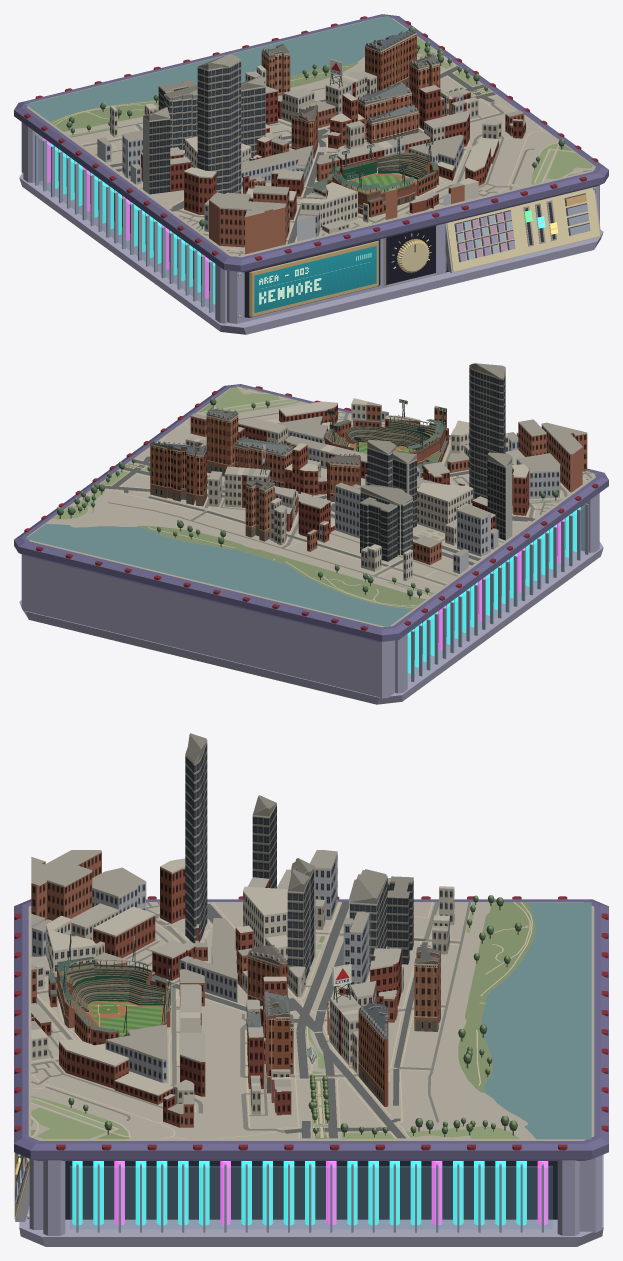
The model's file is segment-place-kencl.glb.
3 renders of one model, top to bottom at view 1: azimuth 30°, elevation 25°; view 2: azimuth 150°, elevation 25°; view 3: azimuth 270°, elevation 25°, orthographic. The views are drawn at different scales.
Parts seen in each view (by area): view 1: Masonry, foliage and streets, Masonry street elevations, Brushed chamfers, Powder-coated alloy, Satin curtain wall, Fluted instrument glass, LCD_Screen, Ice discharge tubes, Enamel and window panes, Rose discharge tubes, Rotary_Dial; view 2: Masonry, foliage and streets, Powder-coated alloy, Masonry street elevations, Brushed chamfers, Satin curtain wall, Fluted instrument glass, Ice discharge tubes, Rose discharge tubes; view 3: Masonry, foliage and streets, Powder-coated alloy, Masonry street elevations, Brushed chamfers, Fluted instrument glass, Ice discharge tubes, Satin curtain wall, Rose discharge tubes, Enamel and window panes.
Boxes of the visible parts, bbox=[...] form: Masonry, foliage and streets: bbox=[25, 16, 595, 257]; Masonry street elevations: bbox=[105, 34, 525, 247]; Brushed chamfers: bbox=[14, 14, 608, 323]; Powder-coated alloy: bbox=[19, 16, 603, 334]; Satin curtain wall: bbox=[149, 60, 265, 194]; Fluted instrument glass: bbox=[39, 136, 214, 311]; LCD_Screen: bbox=[254, 246, 376, 312]; Ice discharge tubes: bbox=[51, 143, 215, 304]; Enamel and window panes: bbox=[330, 60, 590, 261]; Rose discharge tubes: bbox=[43, 138, 208, 298]; Rotary_Dial: bbox=[397, 238, 429, 272]; Masonry, foliage and streets: bbox=[25, 363, 596, 627]; Powder-coated alloy: bbox=[19, 386, 603, 704]; Masonry street elevations: bbox=[150, 403, 587, 580]; Brushed chamfers: bbox=[14, 384, 608, 693]; Satin curtain wall: bbox=[360, 366, 505, 561]; Fluted instrument glass: bbox=[408, 505, 584, 681]; Ice discharge tubes: bbox=[407, 507, 580, 673]; Rose discharge tubes: bbox=[438, 518, 564, 650]; Masonry, foliage and streets: bbox=[28, 733, 594, 1140]; Powder-coated alloy: bbox=[14, 896, 608, 1246]; Masonry street elevations: bbox=[31, 852, 454, 1127]; Brushed chamfers: bbox=[14, 899, 608, 1235]; Fluted instrument glass: bbox=[70, 1166, 552, 1228]; Ice discharge tubes: bbox=[72, 1161, 526, 1225]; Satin curtain wall: bbox=[185, 743, 413, 983]; Rose discharge tubes: bbox=[114, 1161, 548, 1225]; Enamel and window panes: bbox=[14, 935, 351, 1202].
Bounding box in the file's own units: 0.9 × 0.5007 × 0.9.
Materials: 11 (3 with a texture image).
